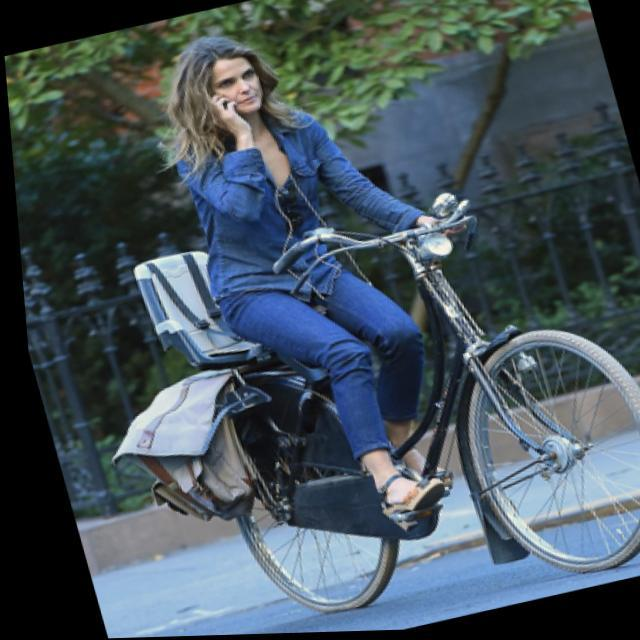Nonhelmet: (177, 24, 275, 132)
